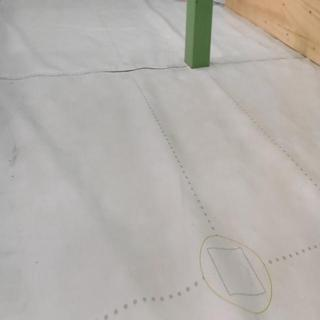greenbox: (185, 0, 215, 69)
